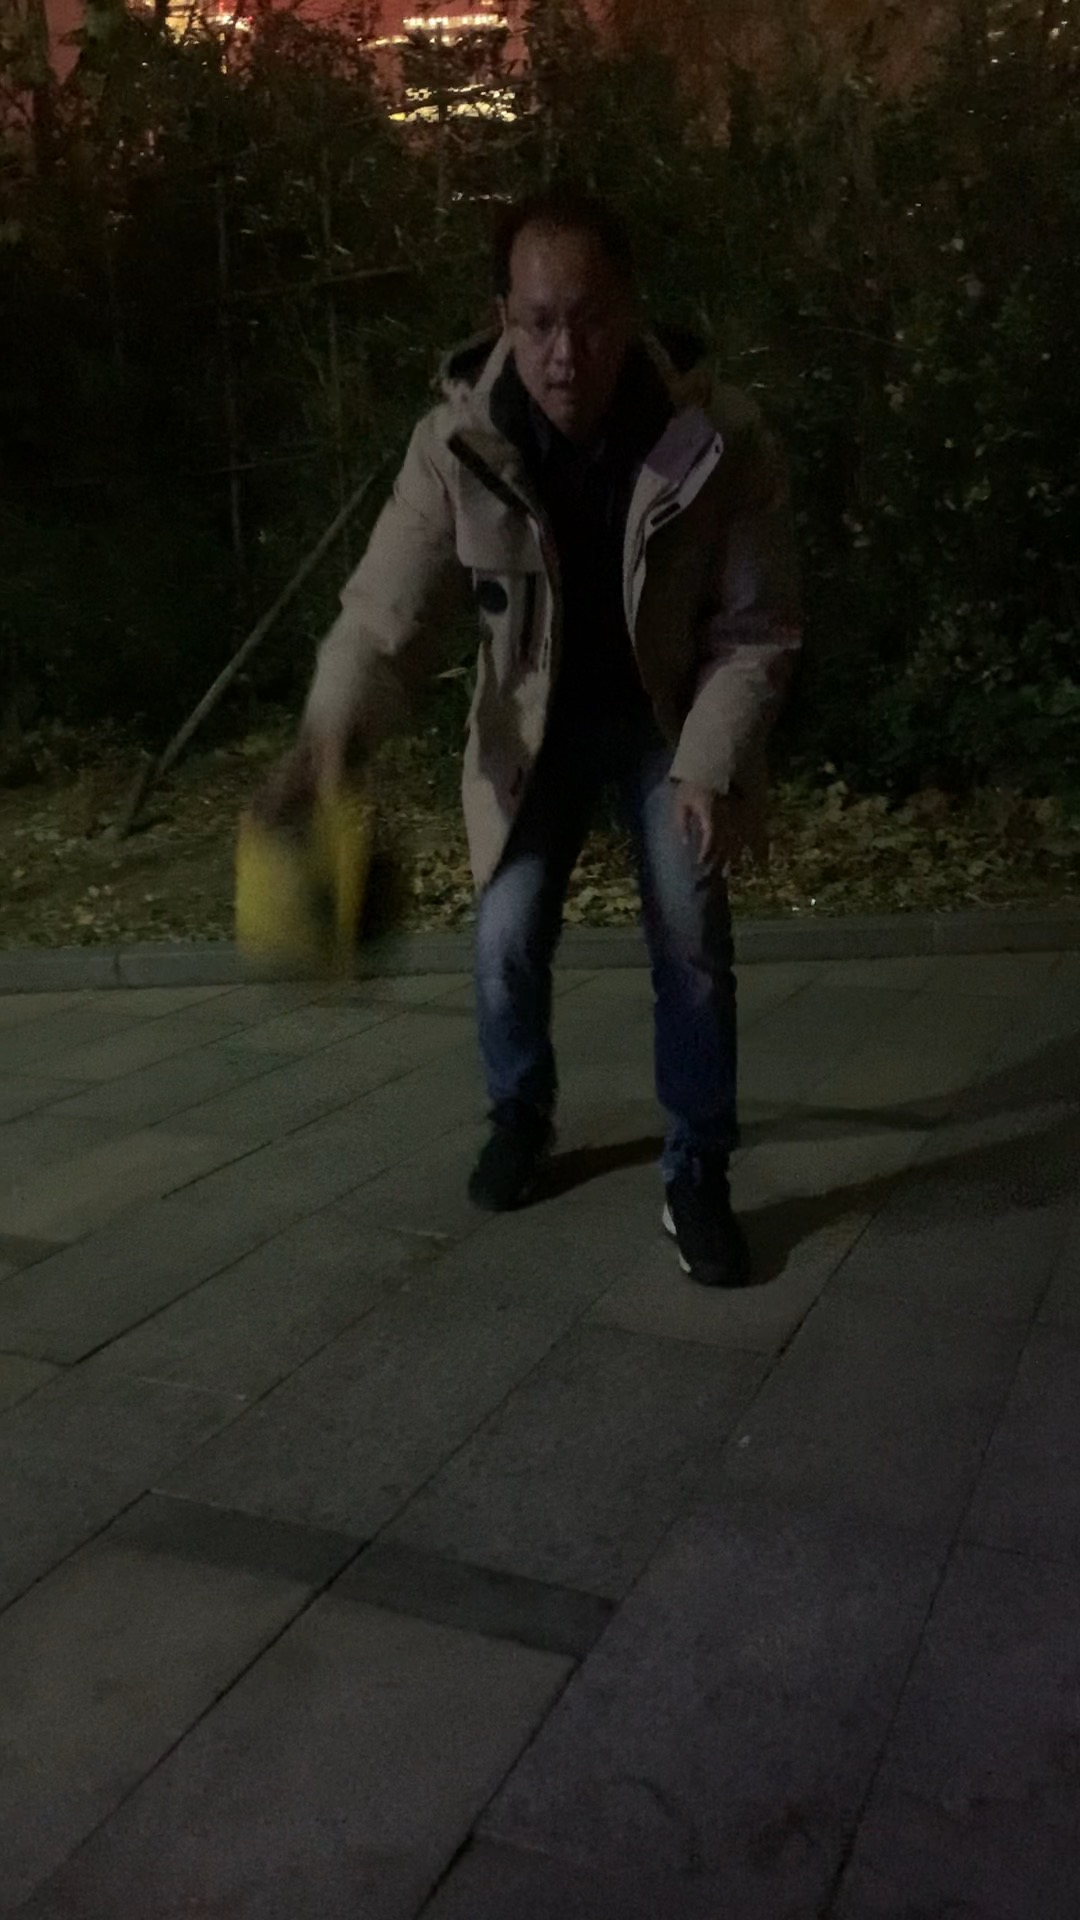ball: (236, 790, 418, 972)
